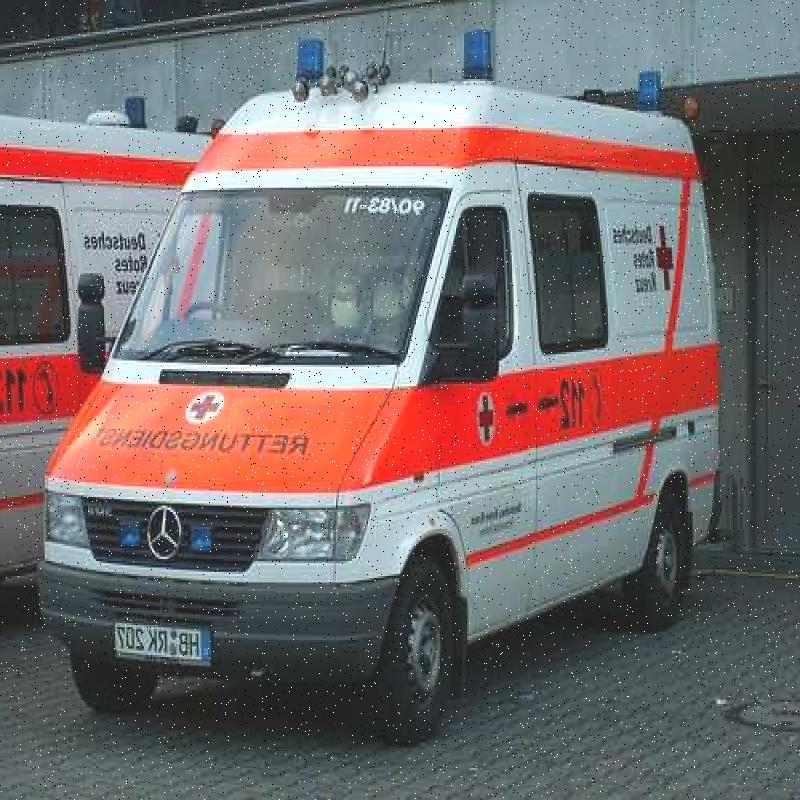AmbulanceSiren: (455, 1, 513, 100), (280, 22, 340, 91)
